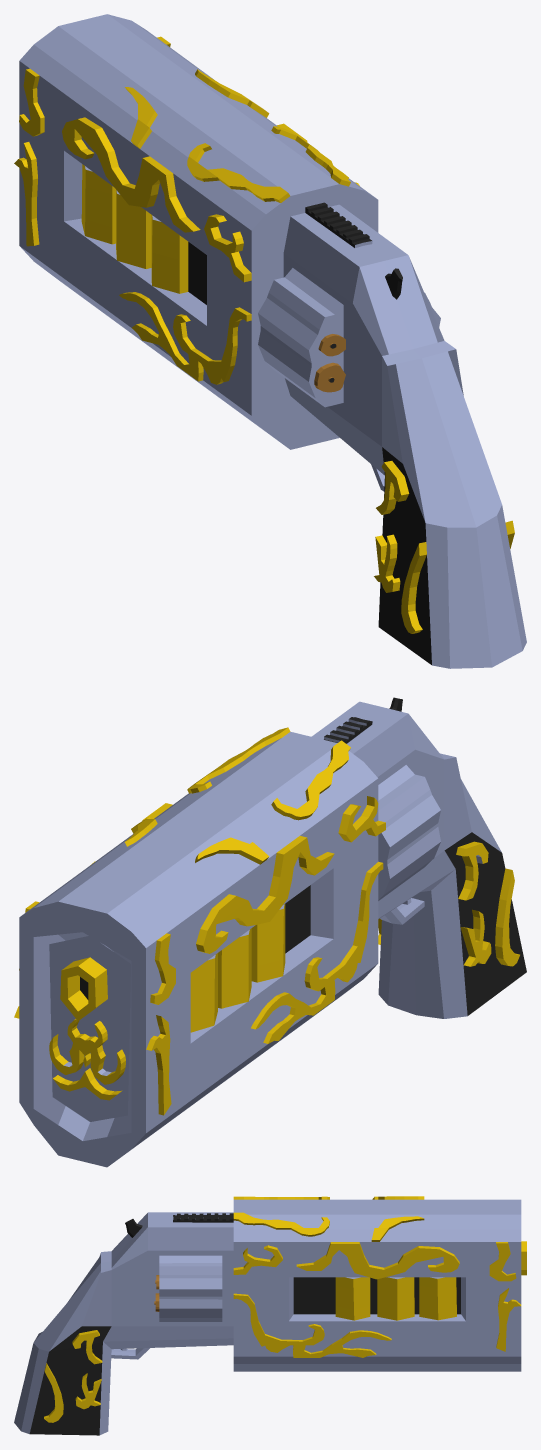
Rendered from 38revolver.fbx.
3 views of the same model, one above another, from view 1: azimuth 30°, elevation 25°; view 2: azimuth 150°, elevation 25°; view 3: azimuth 270°, elevation 25° (orthographic). The views are drawn at different scales.
Visible parts, largest first — view 1: Cube; view 2: Cube; view 3: Cube.
Boxes of the visible parts, x1,y1,x2,y2 form: Cube: (14, 14, 526, 668); Cube: (14, 697, 526, 1167); Cube: (14, 1196, 526, 1435).
Size of the model in its own units: 161 by 384 by 811.
